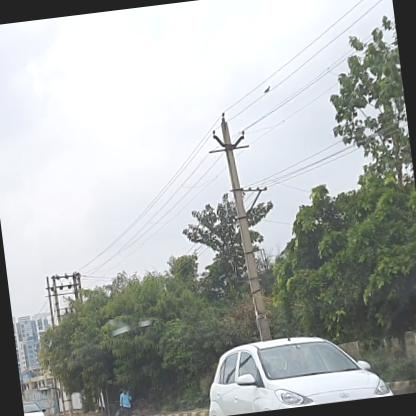car: (197, 324, 398, 415), (22, 398, 51, 415)
